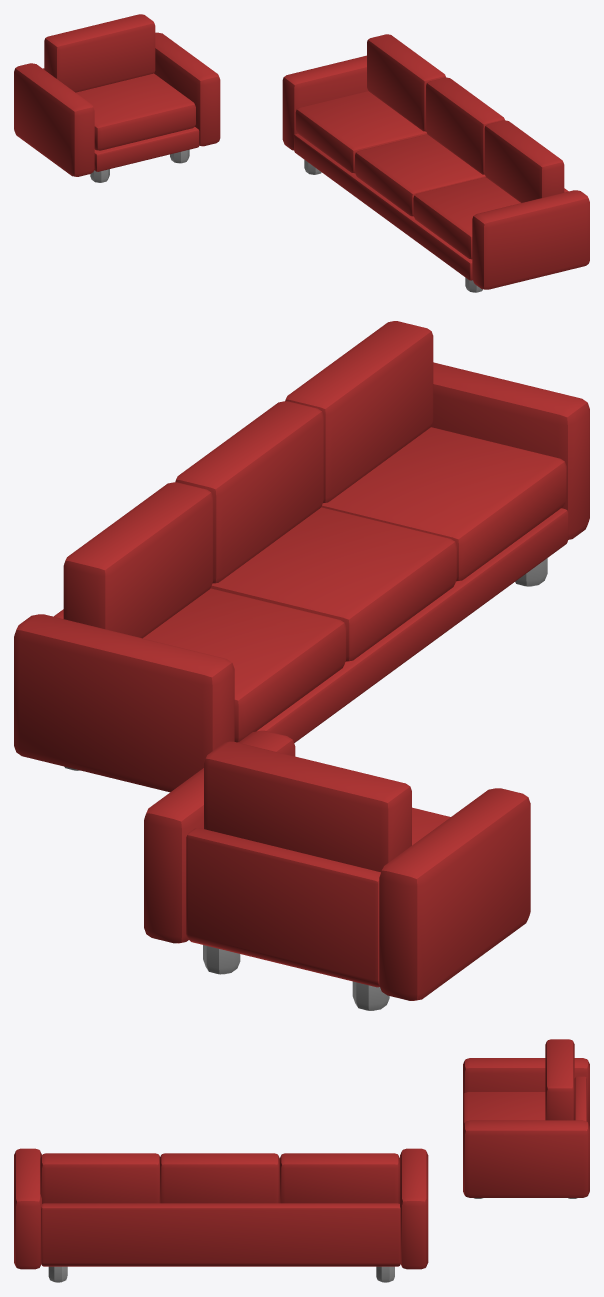
File: Sofa .fbx
3 views of the same model, one above another, from view 1: azimuth 30°, elevation 25°; view 2: azimuth 150°, elevation 25°; view 3: azimuth 270°, elevation 25° (orthographic). The views are drawn at different scales.
Visible parts, largest first — view 1: Sofa with table; view 2: Sofa with table; view 3: Sofa with table.
Part boxes in pixels (x1,y1,x2,y2): Sofa with table: (14, 14, 589, 292); Sofa with table: (14, 321, 589, 1010); Sofa with table: (14, 1039, 589, 1282).
Bounding box in the file's own units: 280 × 104 × 459.
1 material, 1 textured.
